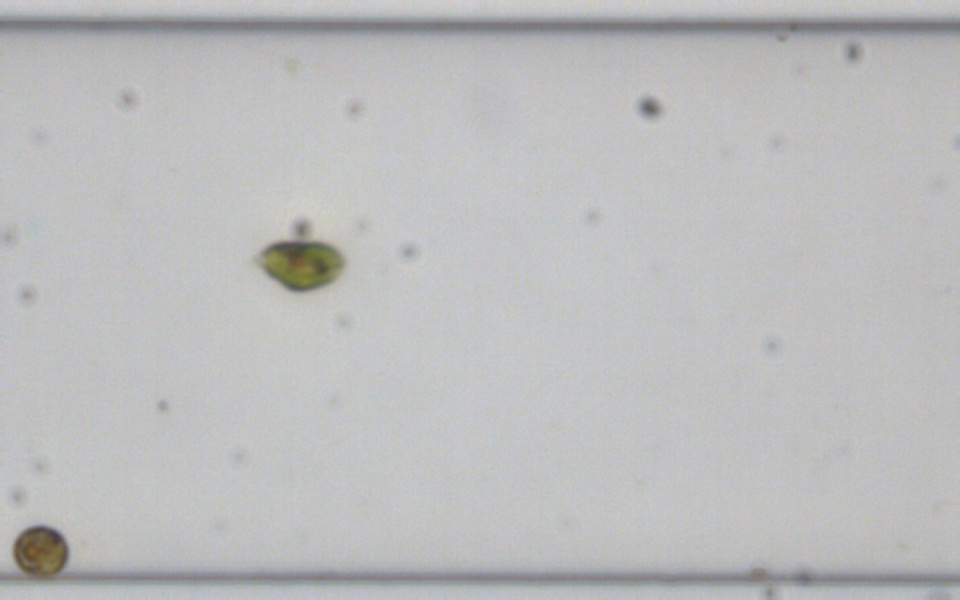Effrenium: (8, 521, 73, 579)
Haematococcus: (253, 236, 345, 295)
